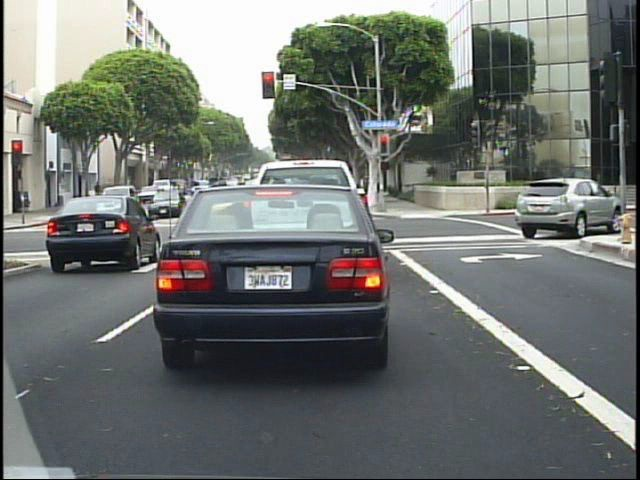person: (92, 178, 108, 212)
